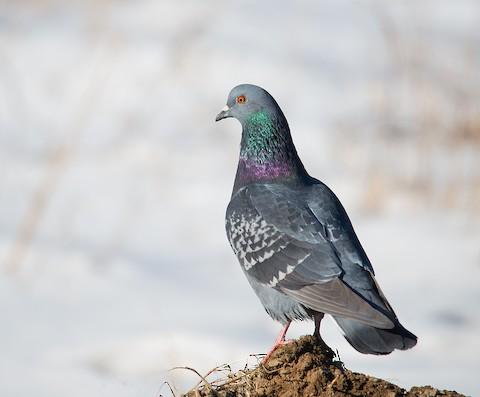pigeon: (211, 80, 422, 366)
